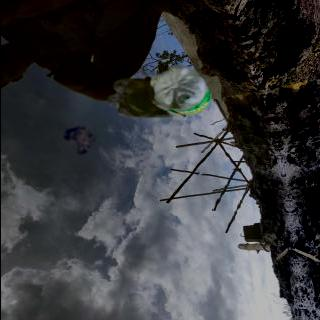bottle: (147, 63, 213, 118)
